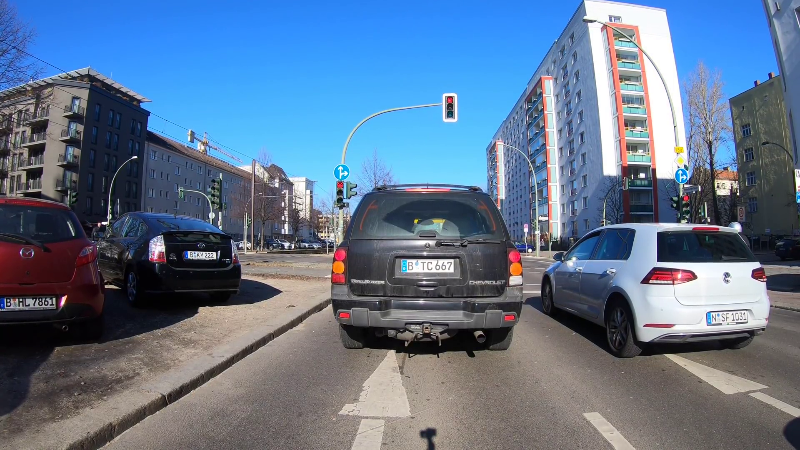Plate: (1, 288, 59, 313), (399, 259, 454, 273), (707, 309, 751, 326), (183, 249, 218, 260)
